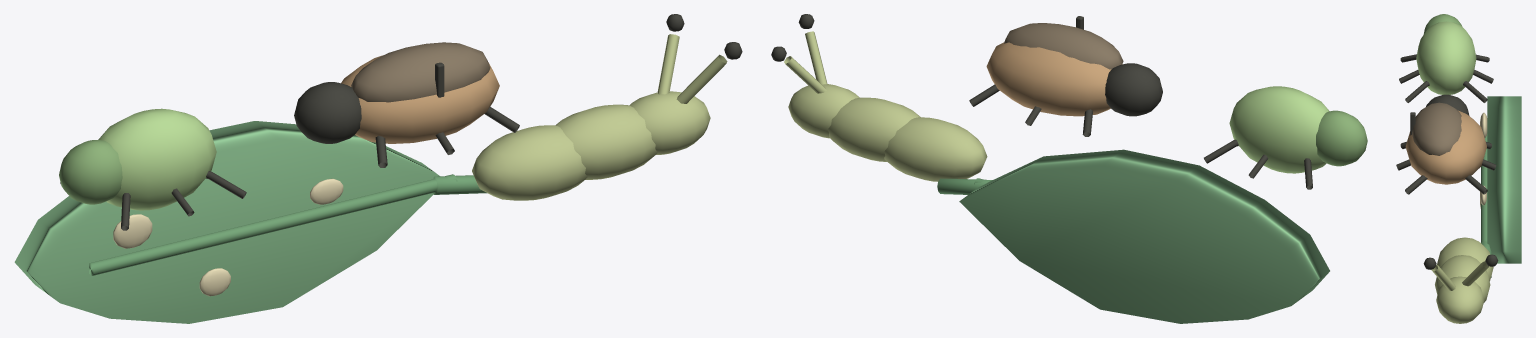
Rendered from PestBugKit.glb.
The picture shows the model from 3 angles, left to right: view 1: azimuth 30°, elevation 25°; view 2: azimuth 150°, elevation 25°; view 3: azimuth 270°, elevation 25°; orthographic projection. The views are drawn at different scales.
Parts seen in each view (by area): view 1: PestBugKit_Leaf_Damage_Leaf, PestBugKit_Slug_Body, PestBugKit_Aphid_Body, PestBugKit_Beetle_Body, PestBugKit_Leaf_Damage_Stem, PestBugKit_Beetle_Shell, PestBugKit_Beetle_Head, PestBugKit_Aphid_Head, PestBugKit_Leaf_Damage_Bite_01, PestBugKit_Aphid_Legs, PestBugKit_Beetle_Legs, PestBugKit_Slug_EyeStalk_R (+3 smaller); view 2: PestBugKit_Leaf_Damage_Leaf, PestBugKit_Slug_Body, PestBugKit_Beetle_Body, PestBugKit_Aphid_Body, PestBugKit_Beetle_Shell, PestBugKit_Beetle_Head, PestBugKit_Aphid_Head, PestBugKit_Aphid_Legs, PestBugKit_Leaf_Damage_Stem, PestBugKit_Beetle_Legs, PestBugKit_Slug_EyeStalk_L, PestBugKit_Slug_EyeStalk_R; view 3: PestBugKit_Leaf_Damage_Leaf, PestBugKit_Slug_Body, PestBugKit_Aphid_Body, PestBugKit_Beetle_Body, PestBugKit_Beetle_Shell, PestBugKit_Aphid_Legs, PestBugKit_Beetle_Legs, PestBugKit_Leaf_Damage_Stem, PestBugKit_Beetle_Head, PestBugKit_Aphid_Head, PestBugKit_Slug_EyeStalk_L, PestBugKit_Slug_EyeStalk_R (+4 smaller).
Boxes of the visible parts, x1,y1,x2,y2 form: PestBugKit_Leaf_Damage_Leaf: (14,121,439,323); PestBugKit_Slug_Body: (472,91,710,200); PestBugKit_Aphid_Body: (98,108,216,210); PestBugKit_Beetle_Body: (341,55,499,143); PestBugKit_Leaf_Damage_Stem: (89,174,487,275); PestBugKit_Beetle_Shell: (351,42,490,102); PestBugKit_Beetle_Head: (294,82,361,143); PestBugKit_Aphid_Head: (59,140,122,204); PestBugKit_Leaf_Damage_Bite_01: (113,214,152,248); PestBugKit_Aphid_Legs: (60,171,246,230); PestBugKit_Beetle_Legs: (375,106,519,167); PestBugKit_Slug_EyeStalk_R: (657,34,679,94); PestBugKit_Leaf_Damage_Leaf: (959,149,1329,323); PestBugKit_Slug_Body: (788,84,987,181); PestBugKit_Beetle_Body: (986,42,1122,116); PestBugKit_Aphid_Body: (1229,86,1329,173); PestBugKit_Beetle_Shell: (1004,23,1123,69); PestBugKit_Beetle_Head: (1105,63,1162,116); PestBugKit_Aphid_Head: (1316,110,1367,166); PestBugKit_Aphid_Legs: (1204,139,1312,189); PestBugKit_Leaf_Damage_Stem: (937,178,992,194); PestBugKit_Beetle_Legs: (969,84,1092,136); PestBugKit_Slug_EyeStalk_L: (805,31,827,84); PestBugKit_Slug_EyeStalk_R: (784,56,826,93); PestBugKit_Leaf_Damage_Leaf: (1487,96,1521,263); PestBugKit_Slug_Body: (1435,237,1493,323); PestBugKit_Aphid_Body: (1416,21,1476,94); PestBugKit_Beetle_Body: (1405,110,1486,184); PestBugKit_Beetle_Shell: (1412,102,1461,155); PestBugKit_Aphid_Legs: (1399,54,1493,102); PestBugKit_Beetle_Legs: (1396,141,1496,194); PestBugKit_Leaf_Damage_Stem: (1481,134,1491,277); PestBugKit_Beetle_Head: (1426,94,1469,115); PestBugKit_Aphid_Head: (1423,14,1462,34); PestBugKit_Slug_EyeStalk_L: (1431,264,1455,290); PestBugKit_Slug_EyeStalk_R: (1462,261,1488,286).
Bounding box in the file's own units: 1.14 × 0.4205 × 0.2696.
